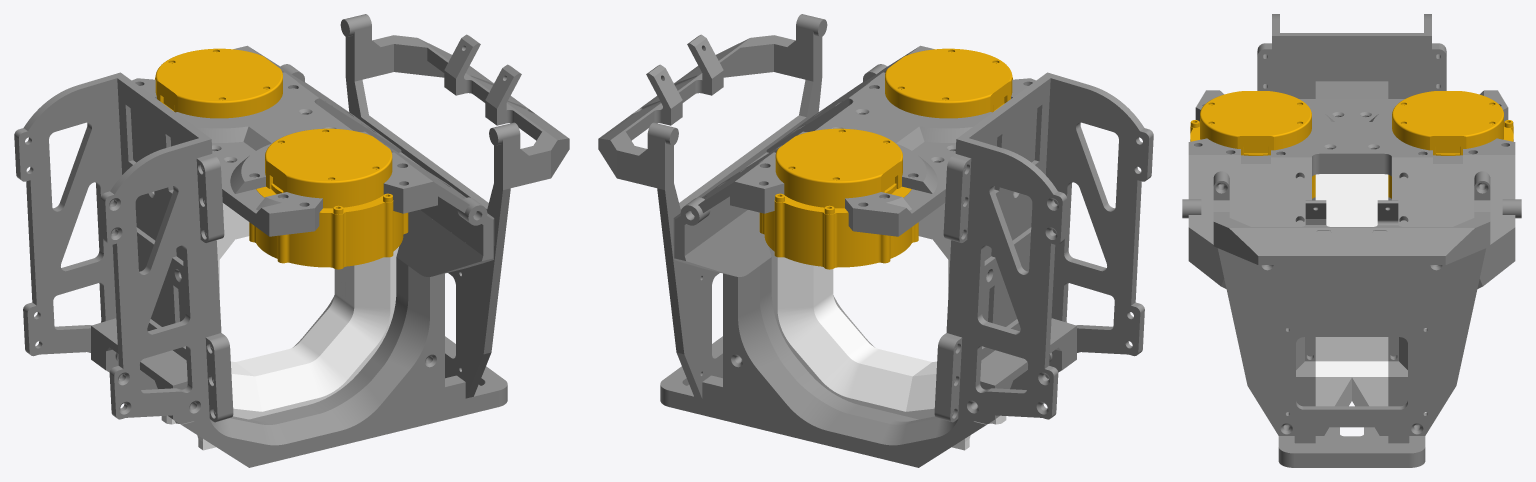
3 renders of one model, left to right at view 1: azimuth 30°, elevation 25°; view 2: azimuth 150°, elevation 25°; view 3: azimuth 270°, elevation 25°, orthographic. The views are drawn at different scales.
Parts seen in each view (by area): view 1: base_link; view 2: base_link; view 3: base_link.
Part boxes in pixels (x1,y1,x2,y2): base_link: [14, 14, 569, 467]; base_link: [598, 14, 1153, 467]; base_link: [1182, 14, 1521, 467].
Size of the model in its own units: 0.2895 by 0.212 by 0.2071.
